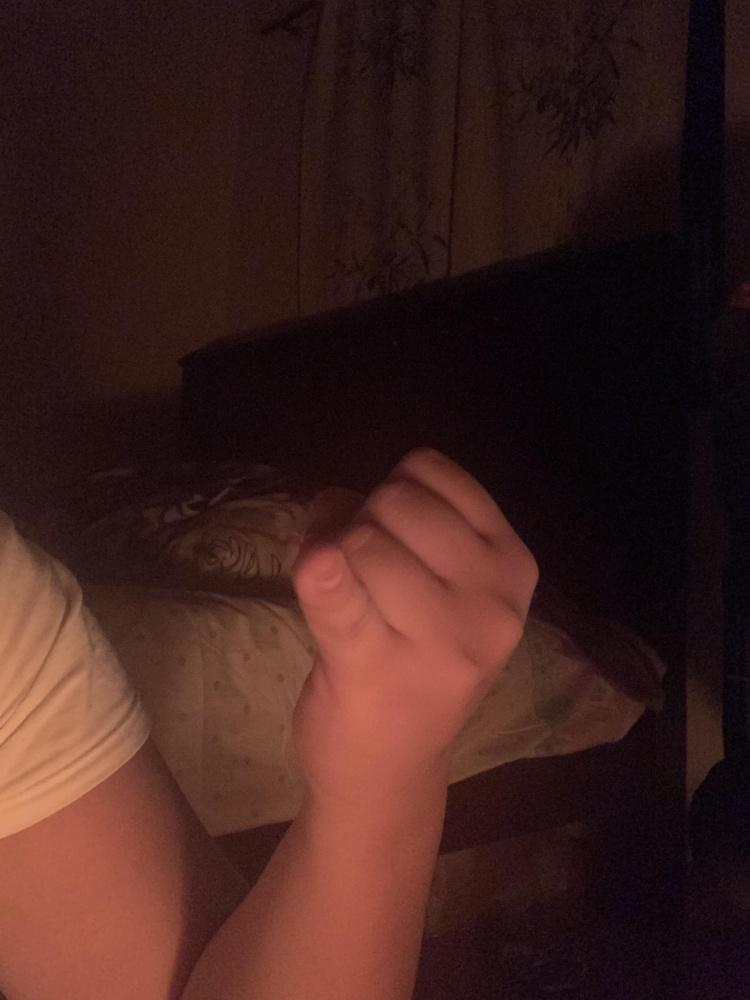j: (287, 449, 541, 804)
